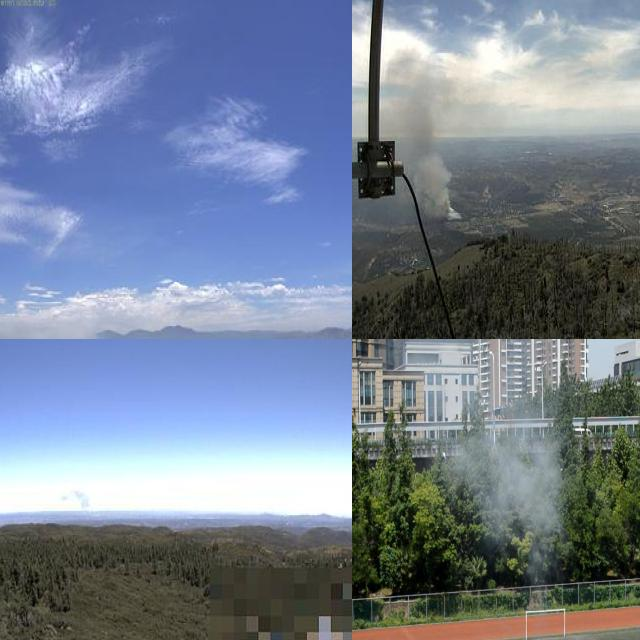smoke: (381, 45, 471, 222), (451, 423, 563, 565), (0, 296, 115, 339), (62, 487, 93, 516)
